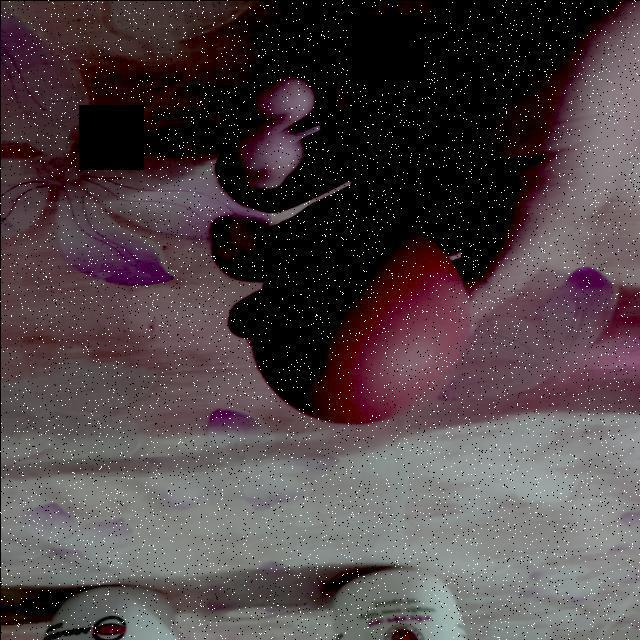egg: (247, 222, 473, 426)
